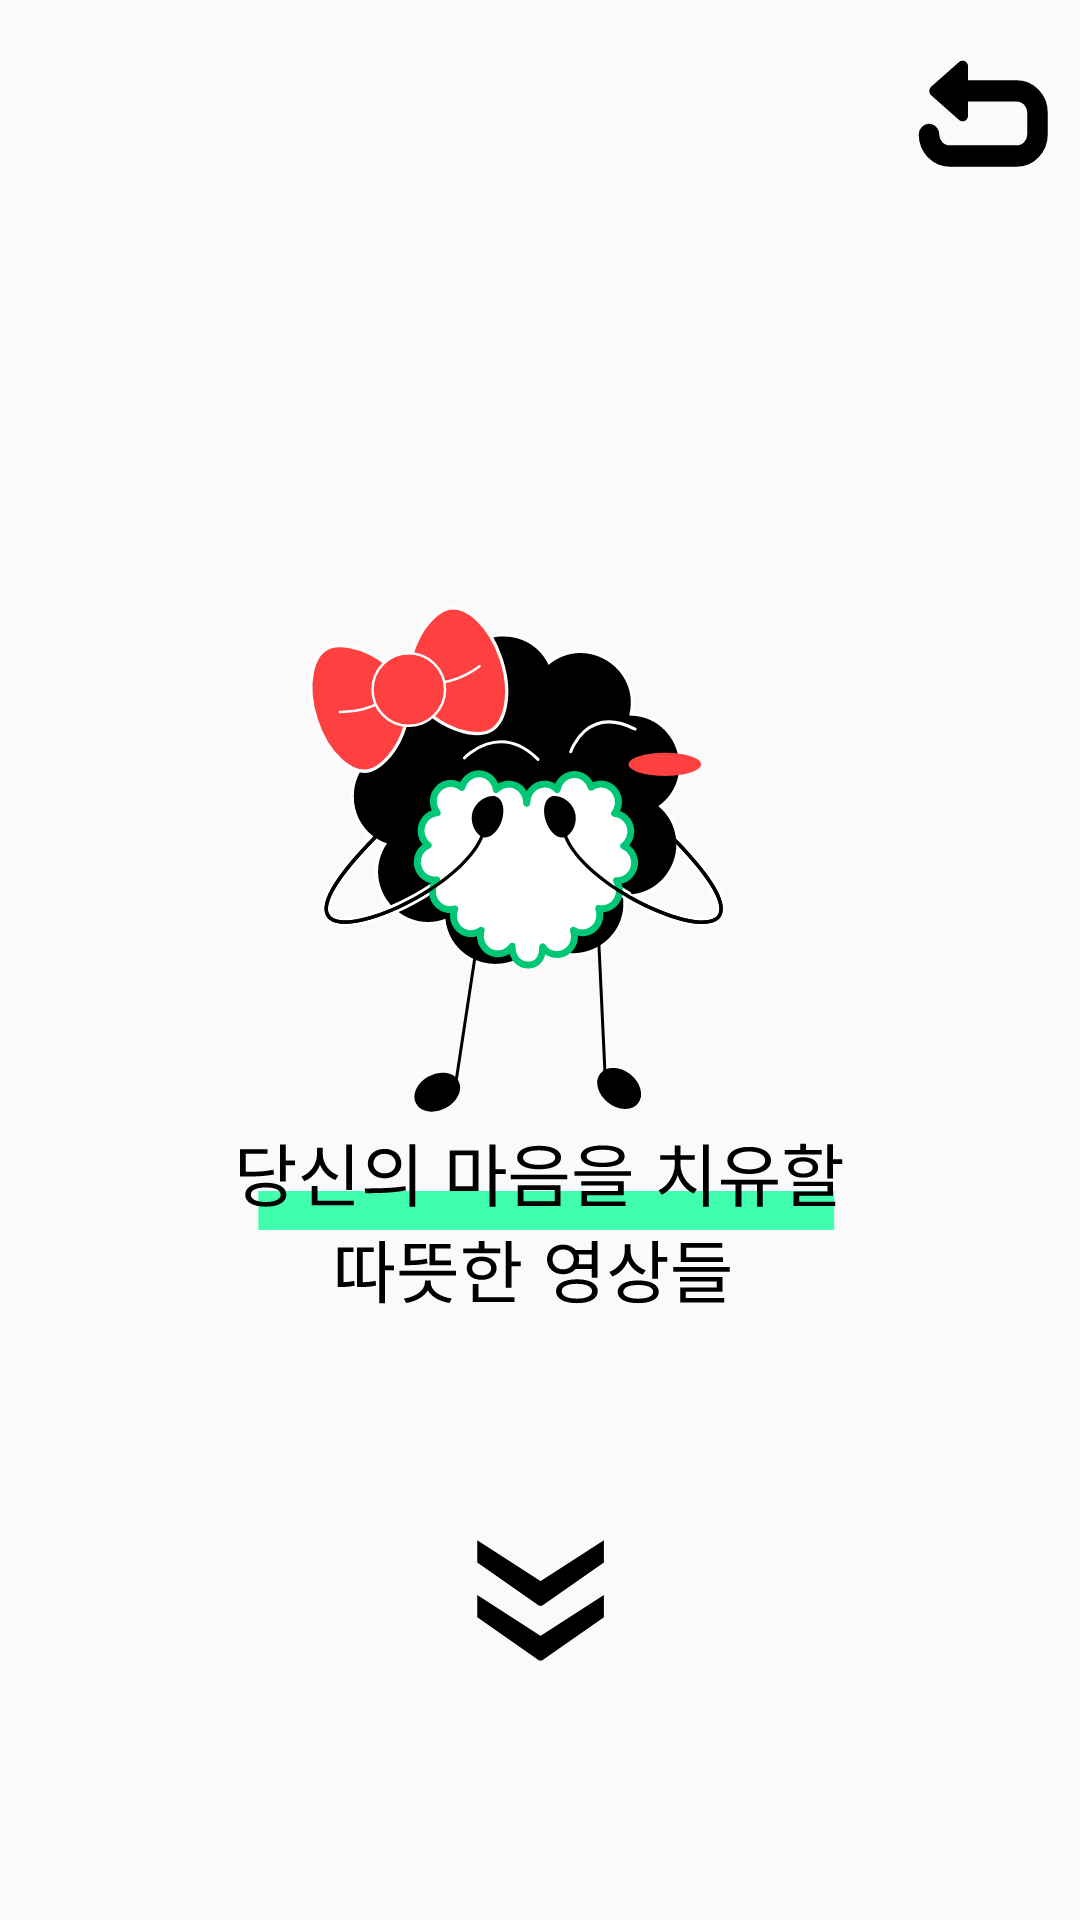

Icons on this 1080px x 1920px Android screen, each with its box as (x1, y1, x2, y2):
back: (918, 60, 1048, 167)
down arrow: (477, 1540, 604, 1661)
